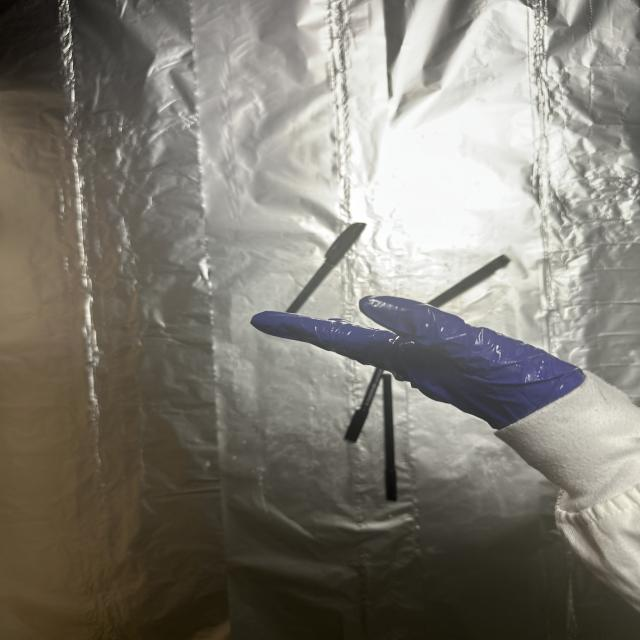gloves_contaminated: (251, 296, 585, 429)
